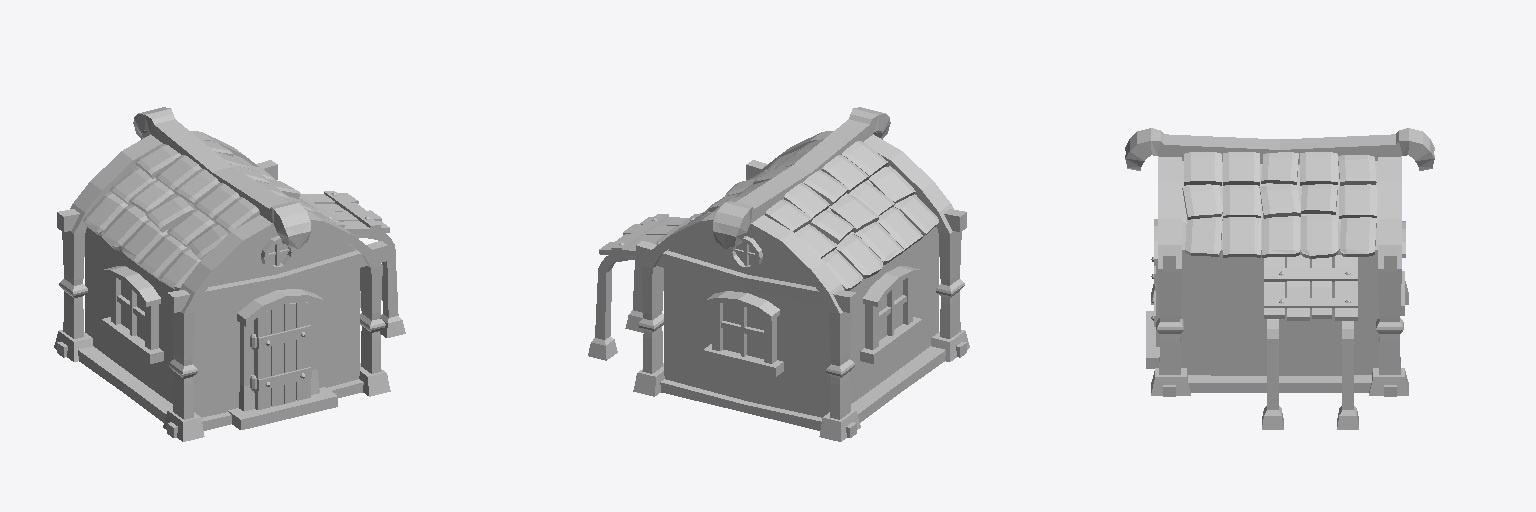
The model's file is Wikihouse.obj.
3 views of the same model, side by side, from view 1: azimuth 30°, elevation 25°; view 2: azimuth 150°, elevation 25°; view 3: azimuth 270°, elevation 25° (orthographic).
Parts seen in each view (by area): view 1: Cube, Cube.001, Cube.005, Cube.002; view 2: Cube, Cube.001, Cube.005, Cube.002; view 3: Cube, Cube.001, Cube.005.
Boxes of the visible parts, x1=… form: Cube: x1=54, y1=107, x2=390, y2=441; Cube.001: x1=83, y1=140, x2=335, y2=290; Cube.005: x1=298, y1=191, x2=405, y2=337; Cube.002: x1=261, y1=236, x2=295, y2=271; Cube: x1=633, y1=107, x2=969, y2=441; Cube.001: x1=688, y1=138, x2=938, y2=290; Cube.005: x1=588, y1=213, x2=701, y2=360; Cube.002: x1=728, y1=236, x2=762, y2=271; Cube: x1=1125, y1=128, x2=1434, y2=396; Cube.001: x1=1182, y1=152, x2=1376, y2=258; Cube.005: x1=1262, y1=255, x2=1358, y2=429.
Bounding box in the file's own units: 4.77 × 3.42 × 4.55.